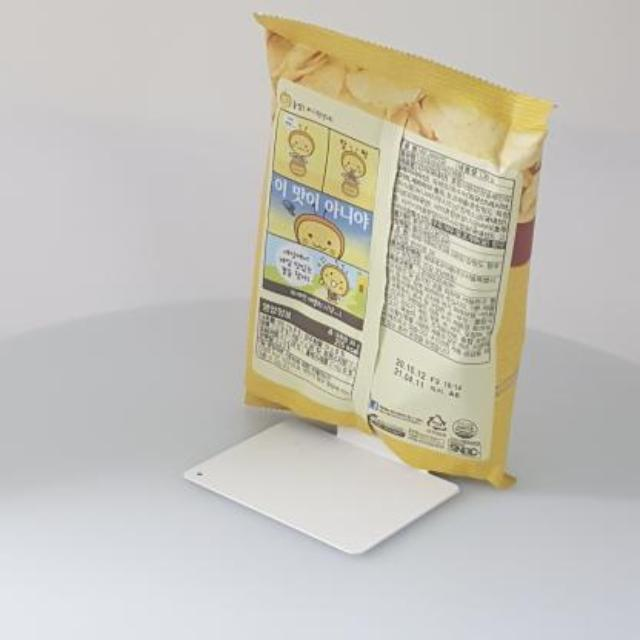snack_bag: (234, 5, 566, 497)
